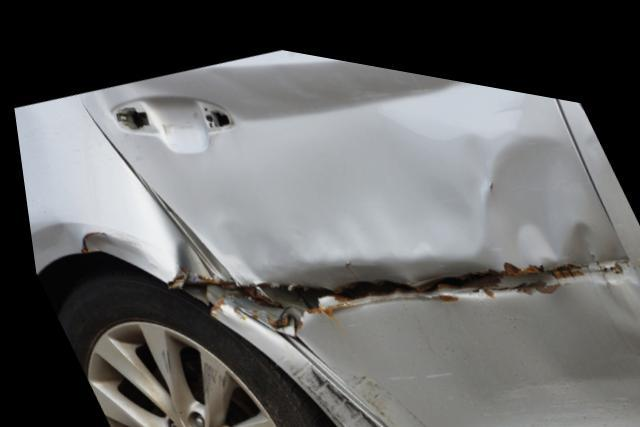crack: (174, 243, 578, 325)
dent: (87, 39, 640, 427), (24, 224, 203, 281)
scratch: (266, 346, 387, 427)
